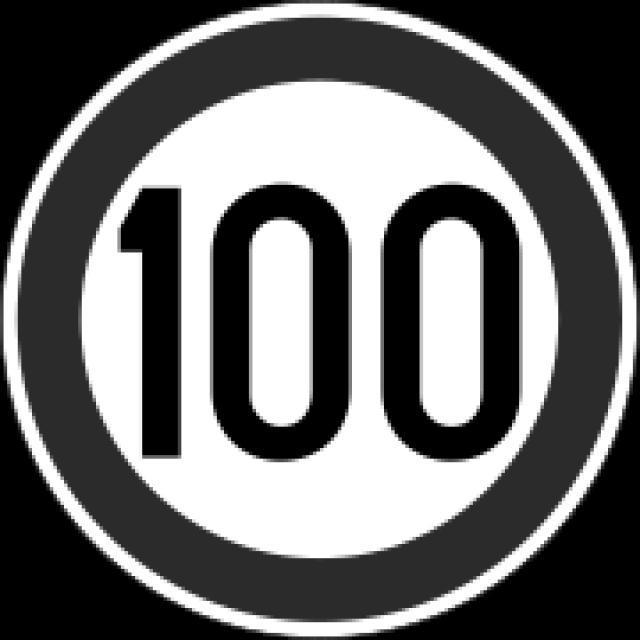speed limit 100: (21, 20, 615, 618)
